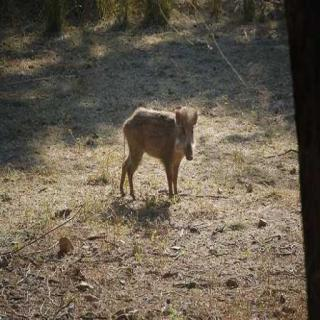Pig: (114, 86, 222, 208)
